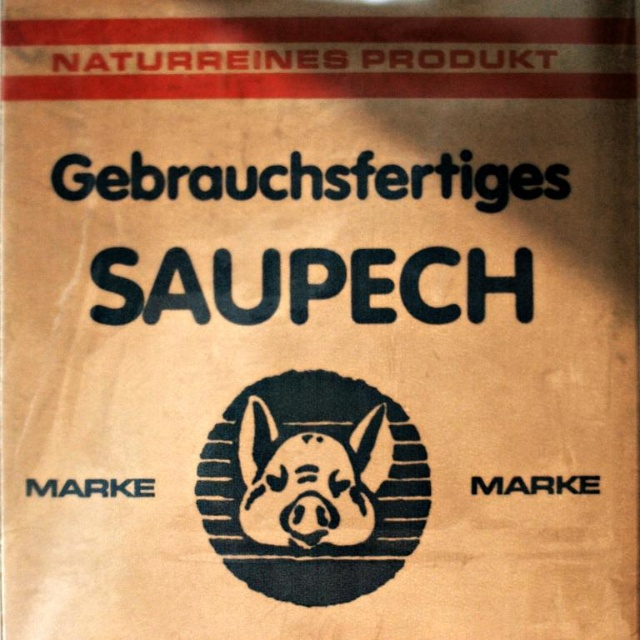Pig: (234, 394, 395, 556)
